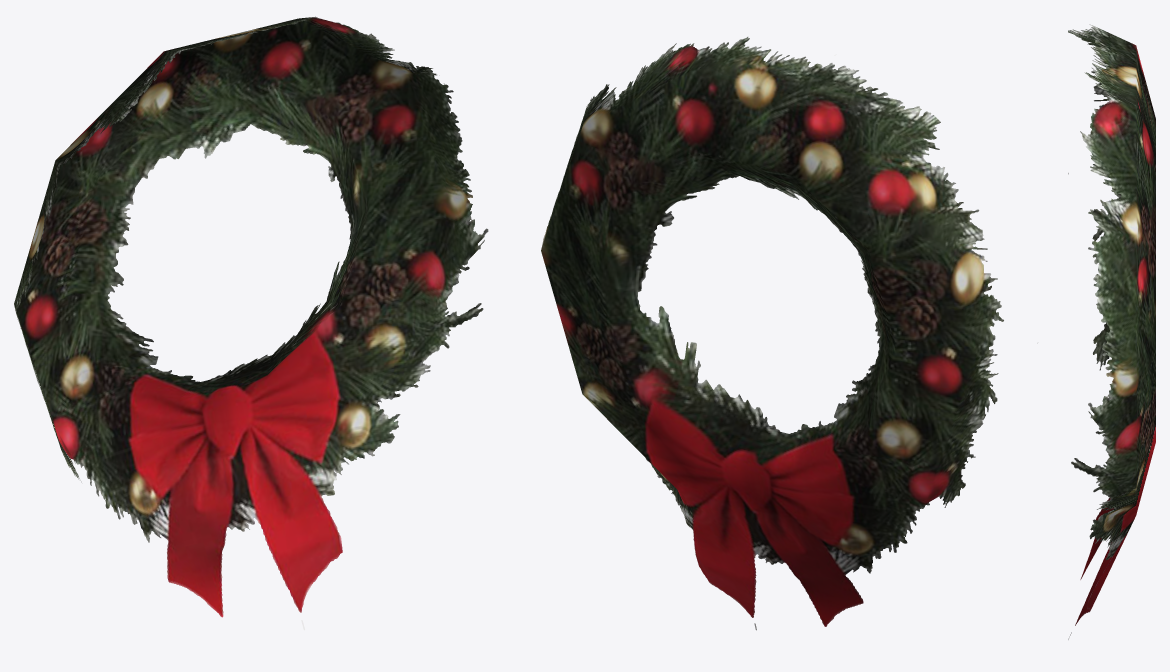
The model's file is christmas_wreath.fbx.
3 renders of one model, left to right at view 1: azimuth 30°, elevation 25°; view 2: azimuth 150°, elevation 25°; view 3: azimuth 270°, elevation 25°, orthographic. The views are drawn at different scales.
Visible parts, largest first — view 1: christmas_wreath; view 2: christmas_wreath; view 3: christmas_wreath.
Boxes of the visible parts, left/top/right/bottom form: christmas_wreath: left=14, top=16, right=488, bottom=630; christmas_wreath: left=541, top=37, right=1037, bottom=630; christmas_wreath: left=1068, top=24, right=1155, bottom=639.
Size of the model in its own units: 42.59 by 50.22 by 6.98.
